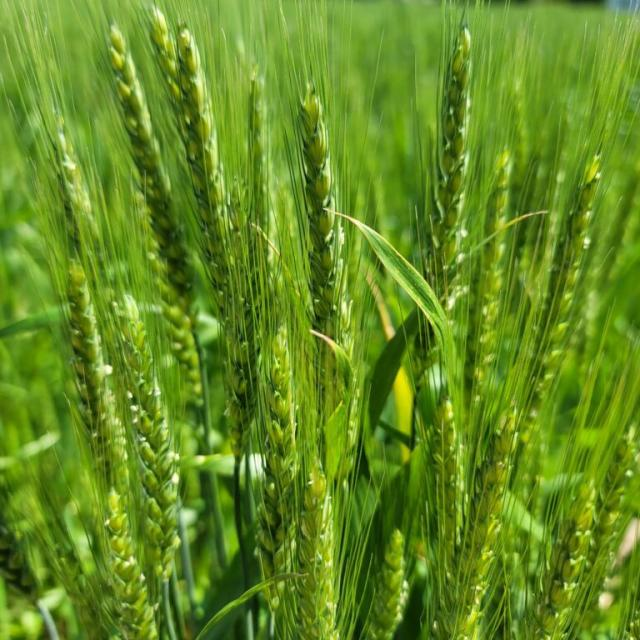Wheathead: (6, 103, 178, 640), (84, 9, 246, 336), (260, 91, 377, 364), (414, 0, 507, 341)
